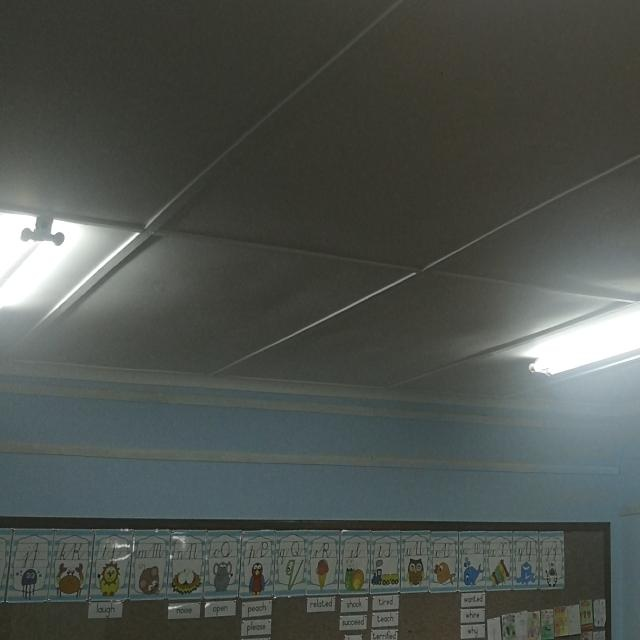fluorescent tube: (514, 278, 640, 407), (5, 194, 98, 350)
